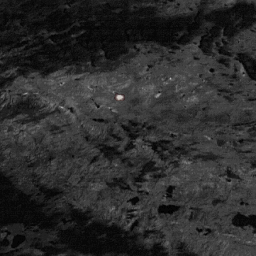Target: (115, 93, 124, 101)
